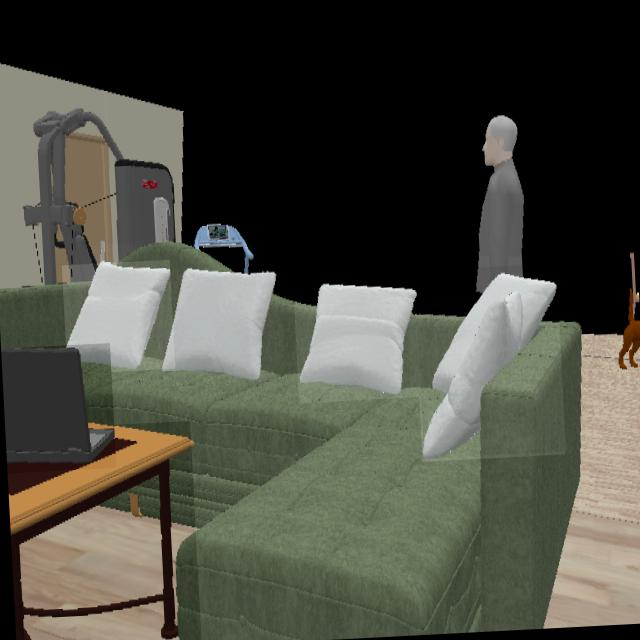laptop: (1, 349, 115, 471)
person: (476, 116, 526, 298)
pillow: (81, 243, 583, 640), (422, 116, 557, 461), (423, 266, 558, 459), (298, 286, 418, 398), (163, 269, 277, 382), (66, 264, 170, 371)
sofa: (82, 243, 584, 640)
table: (7, 427, 191, 640)
